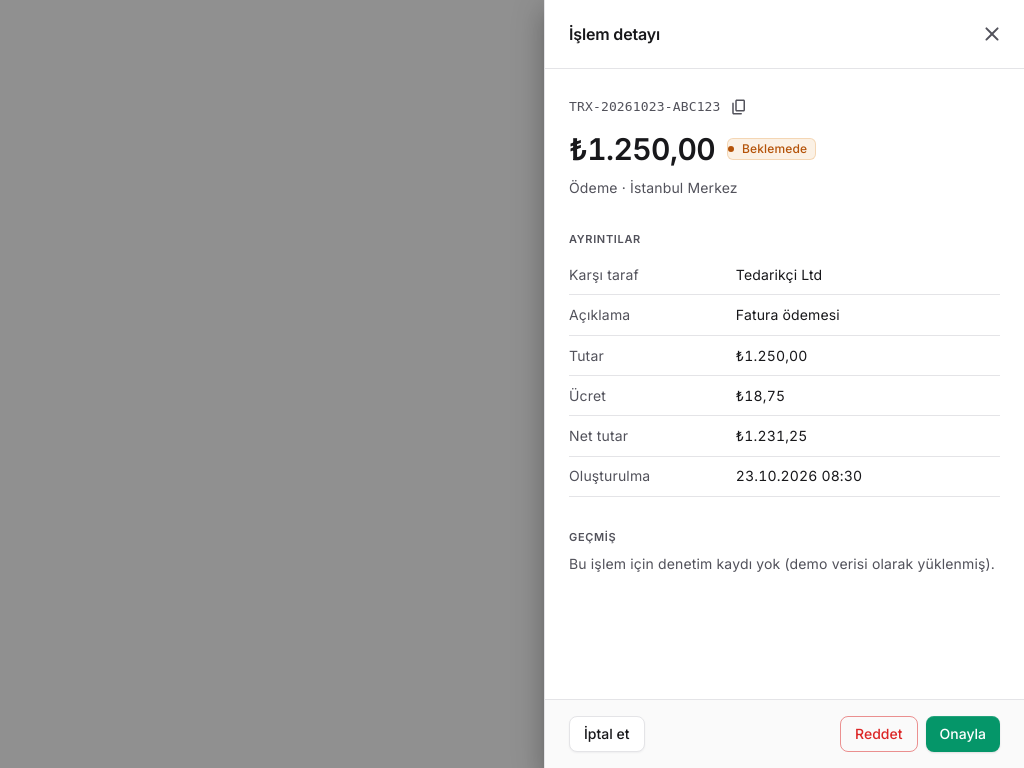
transaction drawer › reloads the record when someone else changed it first (409)
Click the button "Onayla" at (963, 734), box [926,716,1000,752]
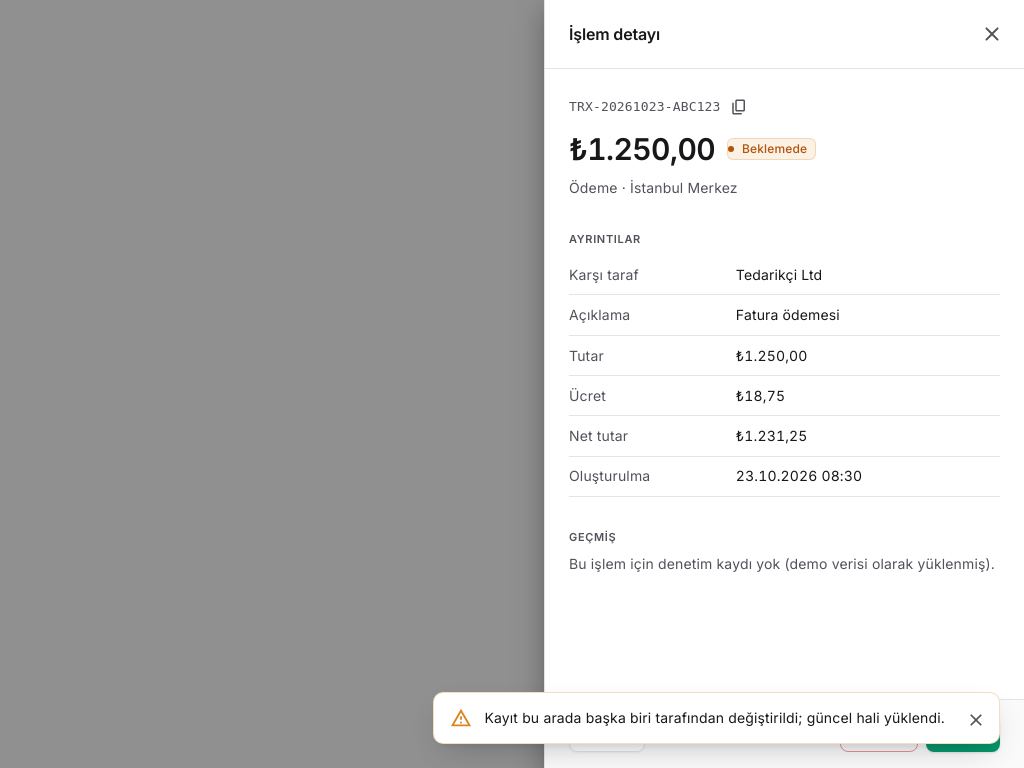
Expected: the text "başka biri tarafından değiştirildi" is shown, [484,709,945,726]
